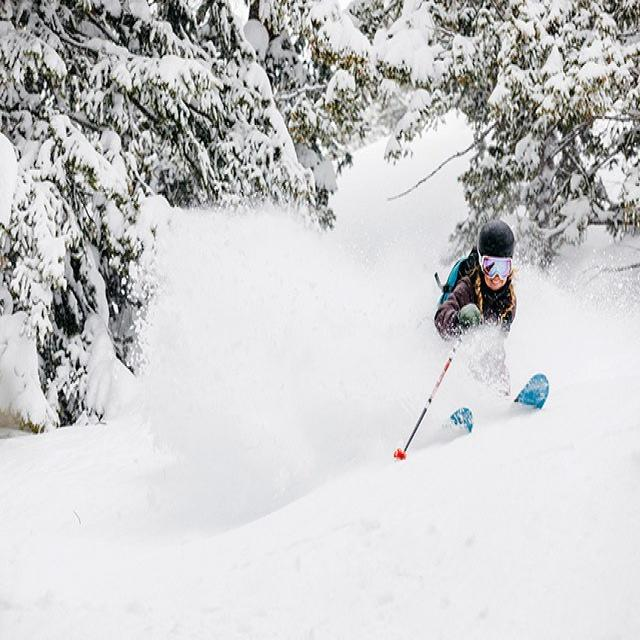skier: (392, 219, 550, 462)
